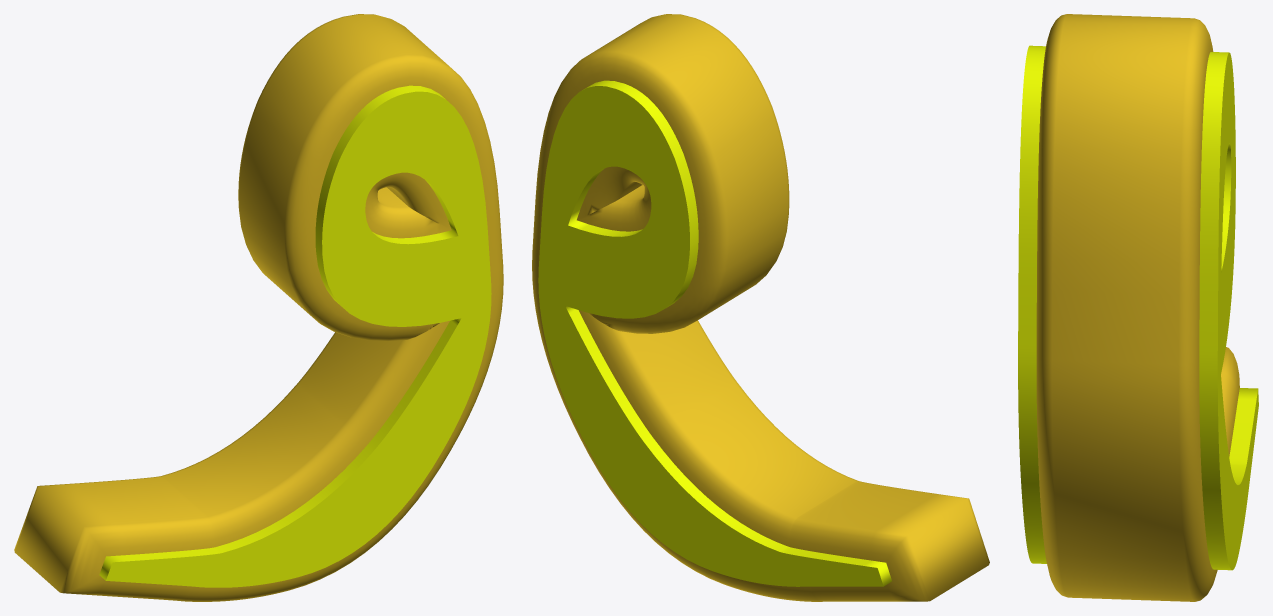
The picture shows the model from 3 angles, left to right: view 1: azimuth 30°, elevation 25°; view 2: azimuth 150°, elevation 25°; view 3: azimuth 270°, elevation 25°; orthographic projection. The views are drawn at different scales.
Parts seen in each view (by area): view 1: text 2, Text; view 2: text 2, Text; view 3: text 2, Text.
Part boxes in pixels (box(x1,y1,x2,y2)): text 2: box(14, 14, 503, 601); Text: box(99, 85, 491, 587); text 2: box(532, 14, 989, 601); Text: box(538, 80, 891, 586); text 2: box(1036, 14, 1239, 601); Text: box(1018, 45, 1258, 570).
Size of the model in its own units: 36.41 by 41.4 by 14.63.
